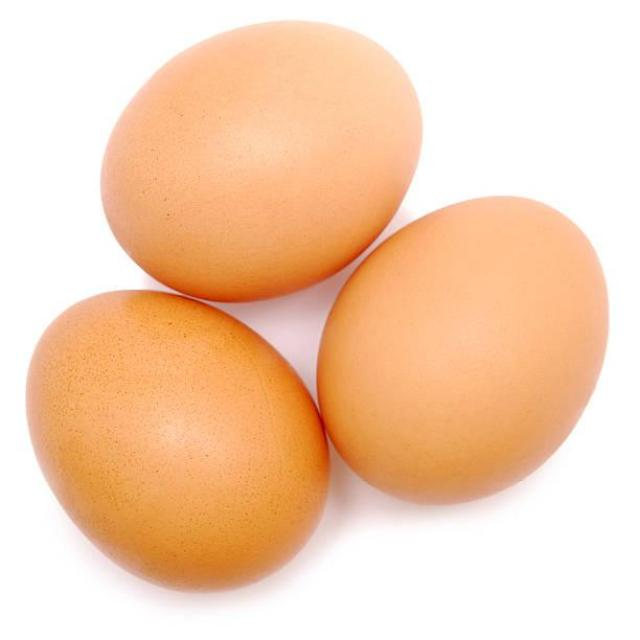Egg: (100, 22, 421, 299), (318, 198, 608, 502), (28, 293, 328, 585)
